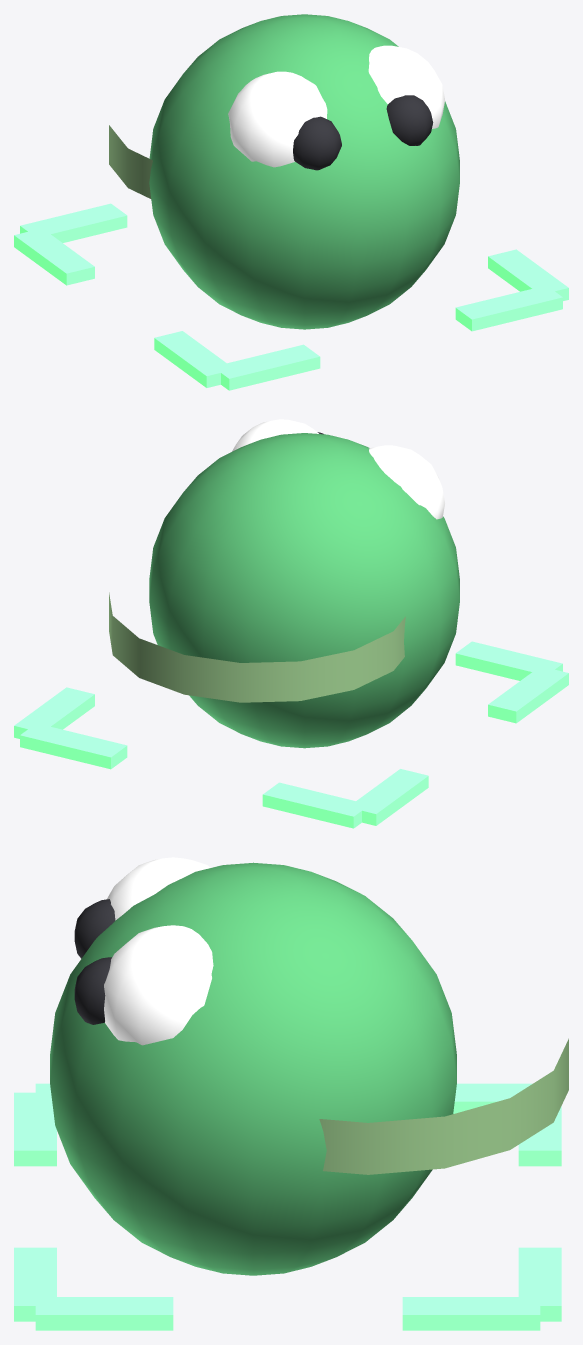
File: snake_green_head.glb
3 renders of one model, top to bottom at view 1: azimuth 30°, elevation 25°; view 2: azimuth 150°, elevation 25°; view 3: azimuth 270°, elevation 25°, orthographic. The views are drawn at different scales.
Bounding box in the file's own units: 0.955 × 0.72 × 0.9675.
